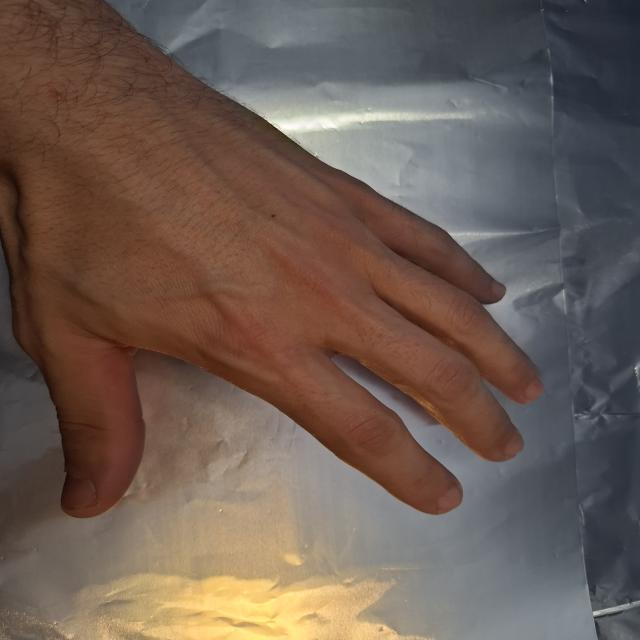glove_off: (0, 125, 551, 522)
